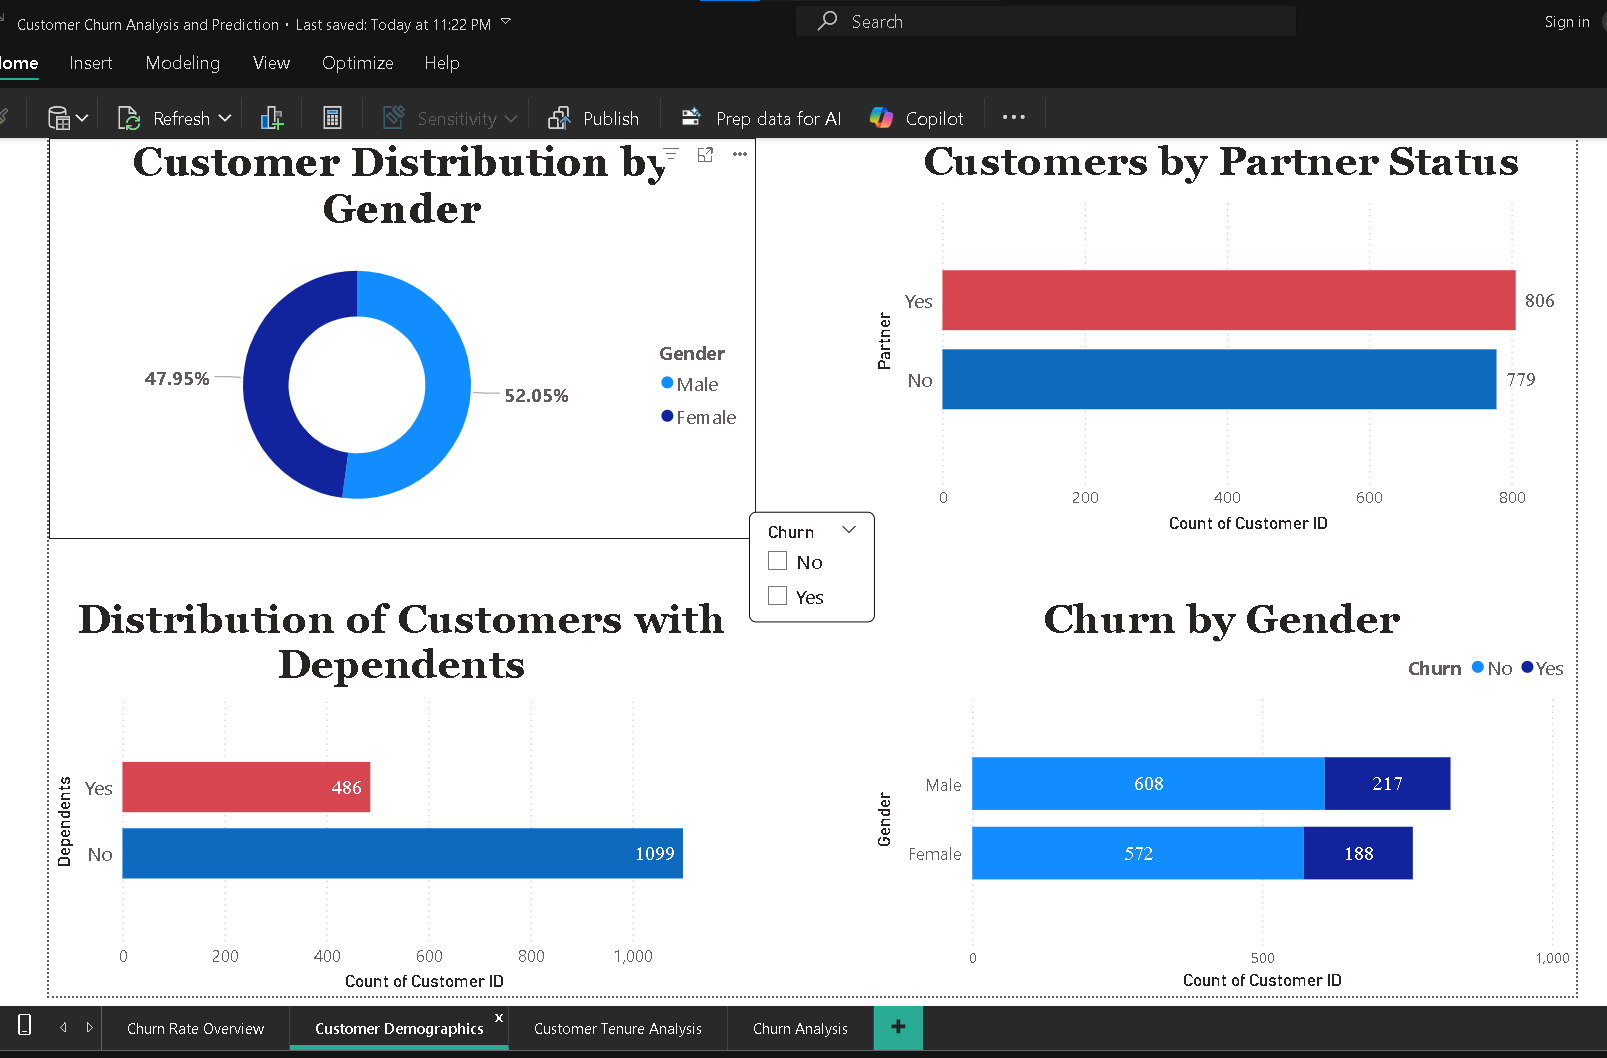

Layout of this report page (visuals, bound fields, positions):
{"tool":"powerbi","page":{"name":"Customer Demographics","canvas":[1280,720],"ordinal":1},"visuals":[{"type":"donutChart","title":"Customer Distribution by Gender","fields":{"Category":["Telco_Customer_Churn_Dataset.Gender"],"Y":["CountNonNull(Telco_Customer_Churn_Dataset.Customer ID)"]},"box":[0,0,592,336],"z":1000},{"type":"barChart","title":"Customers by Partner Status","fields":{"Category":["Telco_Customer_Churn_Dataset.Partner"],"Y":["CountNonNull(Telco_Customer_Churn_Dataset.Customer ID)"]},"box":[688,0,592,336],"z":2000},{"type":"barChart","title":"Distribution of Customers with Dependents","fields":{"Category":["Telco_Customer_Churn_Dataset.Dependents"],"Y":["CountNonNull(Telco_Customer_Churn_Dataset.Customer ID)"]},"box":[0,383.3,592,336.7],"z":3000},{"type":"barChart","title":"Churn by Gender","fields":{"Category":["Telco_Customer_Churn_Dataset.Gender"],"Series":["Telco_Customer_Churn_Dataset.Churn"],"Y":["CountNonNull(Telco_Customer_Churn_Dataset.Customer ID)"]},"box":[688,384,592,336],"z":4000},{"type":"slicer","fields":{"Values":["Telco_Customer_Churn_Dataset.Churn"]},"box":[587.1,313.5,105.8,93],"z":4500}]}

Visuals, with their boxes on the page's 1280x720 design canvas (x1, y1, x2, y2). These are canvas units, not pixel positions in the 1607x1058 screenshot, which may show the page scaled, cropped or inside an application window:
"Customer Distribution by Gender" donutChart: pyautogui.locateOnScreen(0, 0, 592, 336)
"Customers by Partner Status" barChart: pyautogui.locateOnScreen(688, 0, 1280, 336)
"Distribution of Customers with Dependents" barChart: pyautogui.locateOnScreen(0, 383, 592, 720)
"Churn by Gender" barChart: pyautogui.locateOnScreen(688, 384, 1280, 720)
slicer - Telco_Customer_Churn_Dataset.Churn: pyautogui.locateOnScreen(587, 314, 693, 406)
